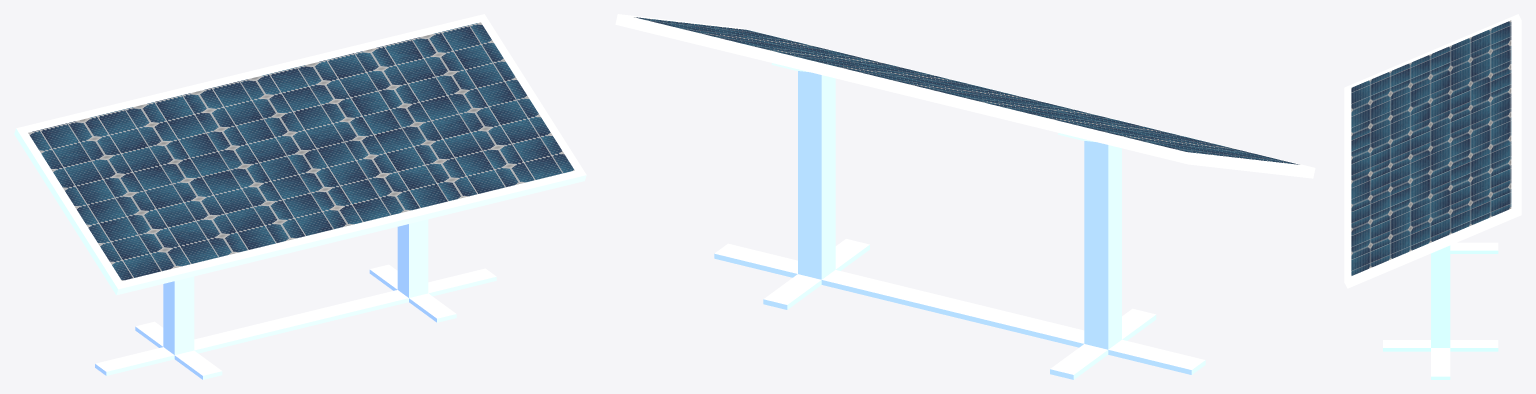
The model's file is panel_self.glb.
3 views of the same model, side by side, from view 1: azimuth 30°, elevation 25°; view 2: azimuth 150°, elevation 25°; view 3: azimuth 270°, elevation 25° (orthographic). The views are drawn at different scales.
Parts seen in each view (by area): view 1: 立方体, 立方体.001, 立方体.007, 立方体.008, 立方体.004, 立方体.003; view 2: 立方体, 立方体.001, 立方体.007, 立方体.008, 立方体.003, 立方体.004; view 3: 立方体, 立方体.008, 立方体.003, 立方体.001, 立方体.004.
Part boxes in pixels (left/top/right/bottom): 立方体: left=14, top=14, right=586, bottom=295; 立方体.001: left=95, top=268, right=496, bottom=375; 立方体.007: left=163, top=276, right=194, bottom=354; 立方体.008: left=397, top=219, right=428, bottom=297; 立方体.004: left=135, top=321, right=222, bottom=379; 立方体.003: left=369, top=264, right=456, bottom=322; 立方体: left=615, top=14, right=1315, bottom=178; 立方体.001: left=714, top=243, right=1205, bottom=374; 立方体.007: left=1084, top=141, right=1121, bottom=349; 立方体.008: left=798, top=71, right=835, bottom=279; 立方体.003: left=763, top=239, right=869, bottom=309; 立方体.004: left=1050, top=308, right=1156, bottom=379; 立方体: left=1344, top=14, right=1521, bottom=288; 立方体.008: left=1431, top=245, right=1450, bottom=347; 立方体.003: left=1383, top=340, right=1498, bottom=351; 立方体.001: left=1431, top=348, right=1450, bottom=379; 立方体.004: left=1430, top=242, right=1498, bottom=253.
Bounding box in the file's own units: 12 × 5.38 × 4.62.
Materials: 3 (1 with a texture image).
